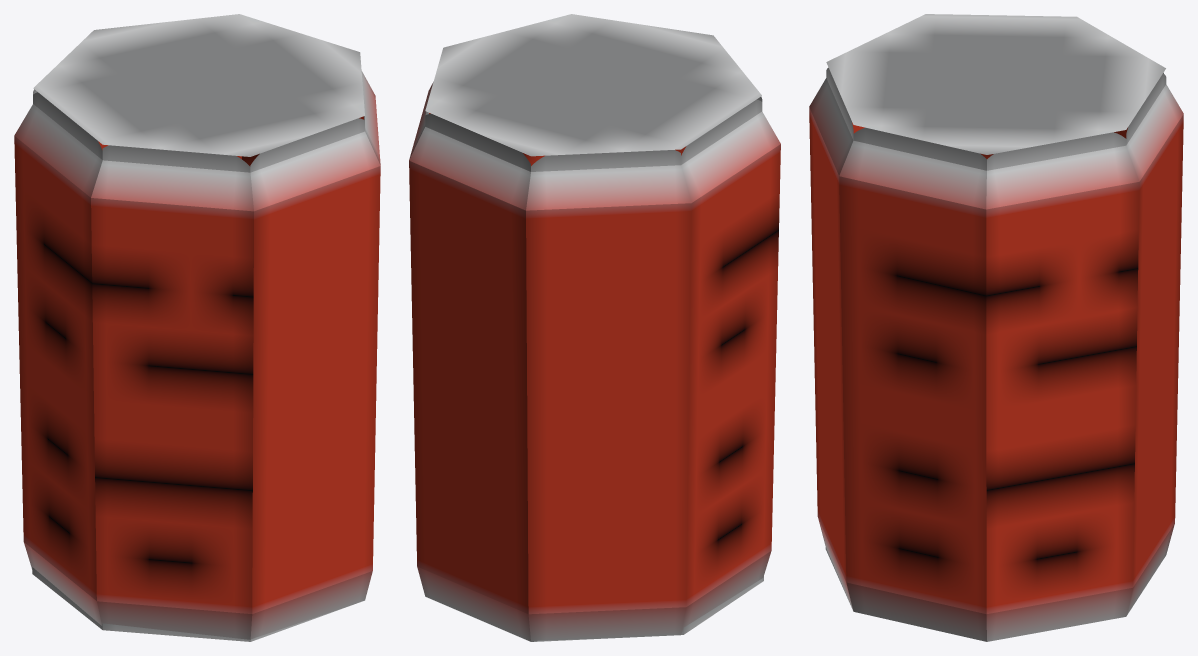
Rendered from RationCan.obj.
3 views of the same model, side by side, from view 1: azimuth 30°, elevation 25°; view 2: azimuth 150°, elevation 25°; view 3: azimuth 270°, elevation 25° (orthographic).
Visible parts, largest first — view 1: Cans; view 2: Cans; view 3: Cans.
Boxes of the visible parts, x1,y1,x2,y2 form: Cans: [14, 14, 380, 641]; Cans: [409, 14, 780, 641]; Cans: [809, 14, 1183, 641].
Bounding box in the file's own units: 0.0665 × 0.0969 × 0.0676.
1 material, 1 textured.
